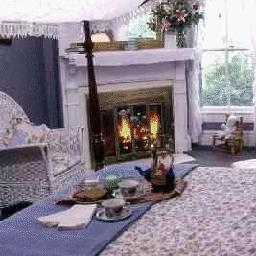Cama: (2, 167, 254, 253)
Ventana: (196, 2, 255, 112)
